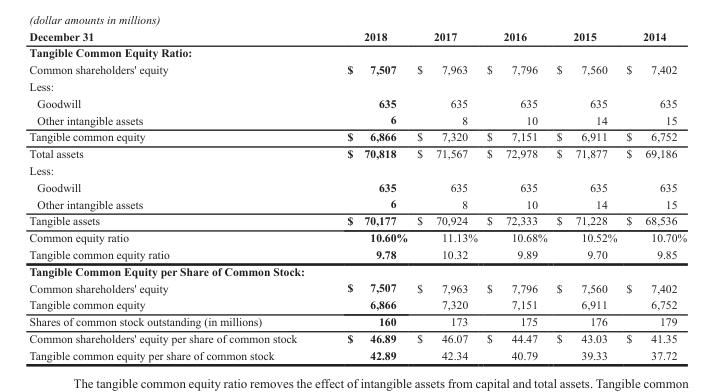table: (28, 29, 686, 361)
table column: (28, 29, 321, 361), (321, 29, 411, 361), (411, 29, 481, 361), (481, 29, 551, 361), (551, 29, 620, 361), (620, 29, 686, 361)
table column header: (28, 29, 686, 43)
table projected row header: (28, 43, 686, 60), (28, 77, 686, 94), (28, 161, 686, 178), (28, 262, 686, 279)
table row: (28, 43, 686, 60), (28, 60, 686, 77), (28, 77, 686, 94), (28, 94, 686, 111), (28, 111, 686, 128), (28, 144, 686, 161), (28, 161, 686, 178), (28, 178, 686, 195), (28, 195, 686, 212), (28, 228, 686, 245), (28, 245, 686, 262), (28, 262, 686, 279), (28, 295, 686, 312), (28, 312, 686, 329), (28, 329, 686, 346), (28, 128, 686, 144), (28, 212, 686, 228), (28, 279, 686, 295), (28, 346, 686, 361), (28, 29, 686, 43)
